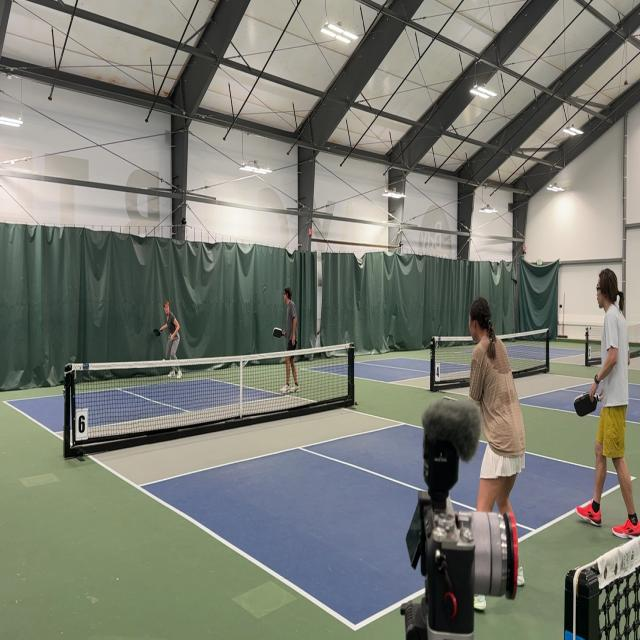ball: (162, 358, 165, 364)
